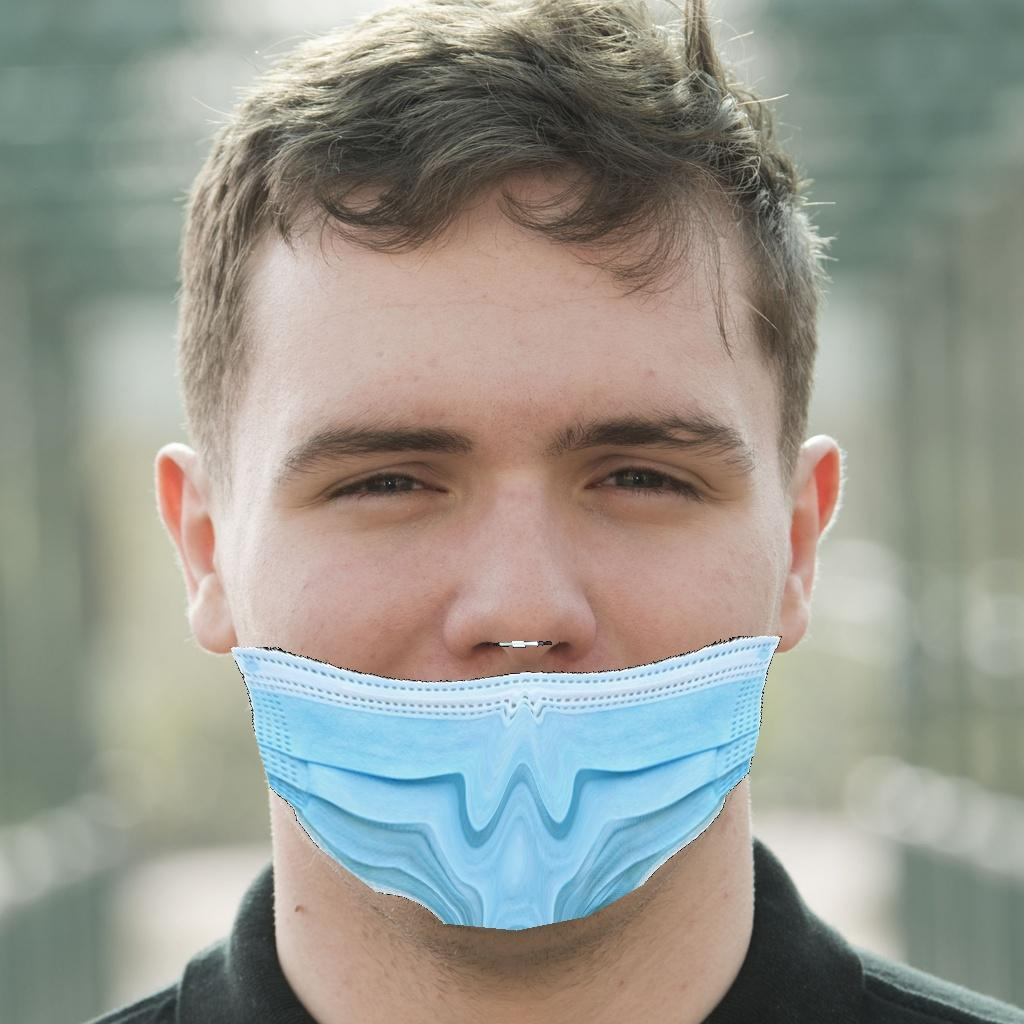Máscara Incorreta: (208, 261, 820, 926)
